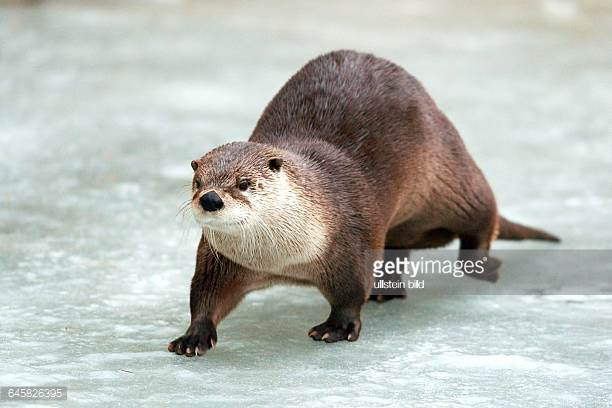otter: (167, 34, 577, 363)
